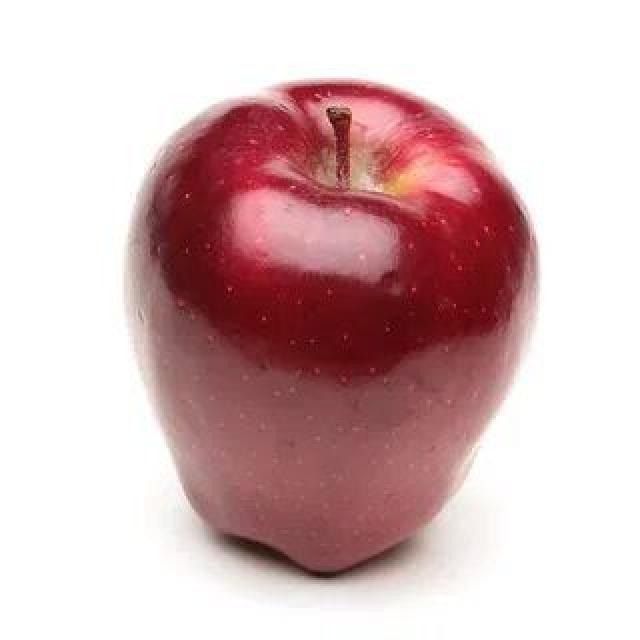Fresh Apple: (150, 88, 516, 560)
